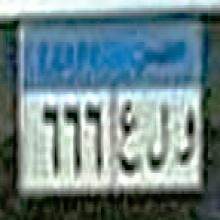6: (40, 100, 61, 174), (62, 99, 81, 180), (85, 101, 105, 176)
ain: (119, 99, 142, 180)
laam: (146, 96, 170, 178)
waw: (174, 102, 197, 171)
